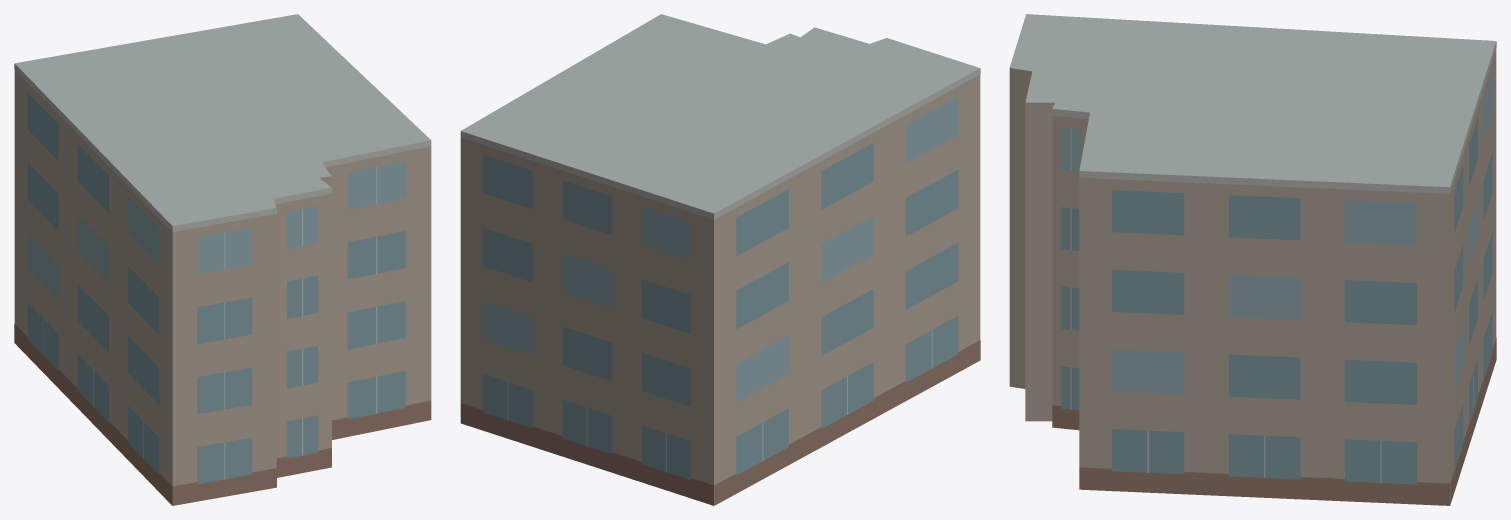
Rendered from survey-upis-33004842.glb.
The picture shows the model from 3 angles, left to right: view 1: azimuth 30°, elevation 25°; view 2: azimuth 150°, elevation 25°; view 3: azimuth 270°, elevation 25°; orthographic projection. The views are drawn at different scales.
Visible parts, largest first — view 1: survey-upis-33004842.tmp; view 2: survey-upis-33004842.tmp; view 3: survey-upis-33004842.tmp.
Boxes of the visible parts, left/top/right/bottom form: survey-upis-33004842.tmp: left=14, top=14, right=431, bottom=505; survey-upis-33004842.tmp: left=460, top=14, right=980, bottom=505; survey-upis-33004842.tmp: left=1009, top=14, right=1496, bottom=505.
Bounding box in the file's own units: 13.3 × 11.4 × 15.8.
